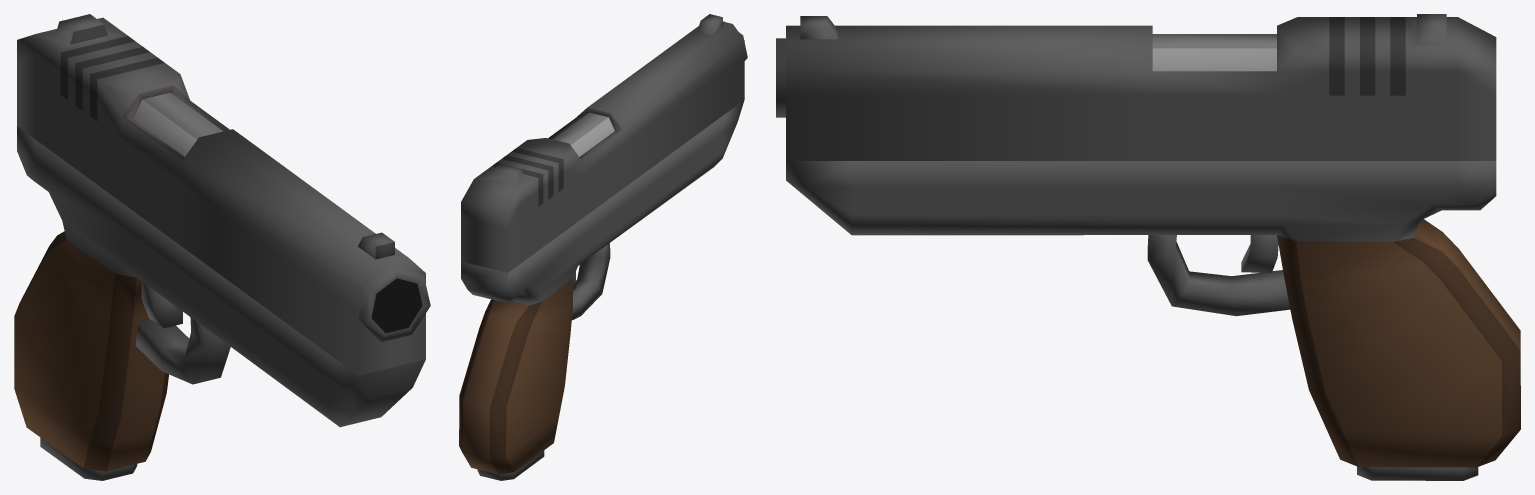
Rendered from SecurityPistol.fbx.
3 renders of one model, left to right at view 1: azimuth 30°, elevation 25°; view 2: azimuth 150°, elevation 25°; view 3: azimuth 270°, elevation 25°, orthographic. The views are drawn at different scales.
Visible parts, largest first — view 1: SecurityPistol, SecurityPistolMagazine; view 2: SecurityPistol, SecurityPistolMagazine; view 3: SecurityPistol, SecurityPistolMagazine.
Part boxes in pixels (x1,y1,x2,y2): SecurityPistol: [14, 14, 430, 471]; SecurityPistolMagazine: [40, 437, 137, 480]; SecurityPistol: [459, 14, 747, 474]; SecurityPistolMagazine: [477, 450, 544, 480]; SecurityPistol: [776, 14, 1520, 467]; SecurityPistolMagazine: [1357, 466, 1478, 480].
Size of the model in its own units: 5 by 30.24 by 45.7.
